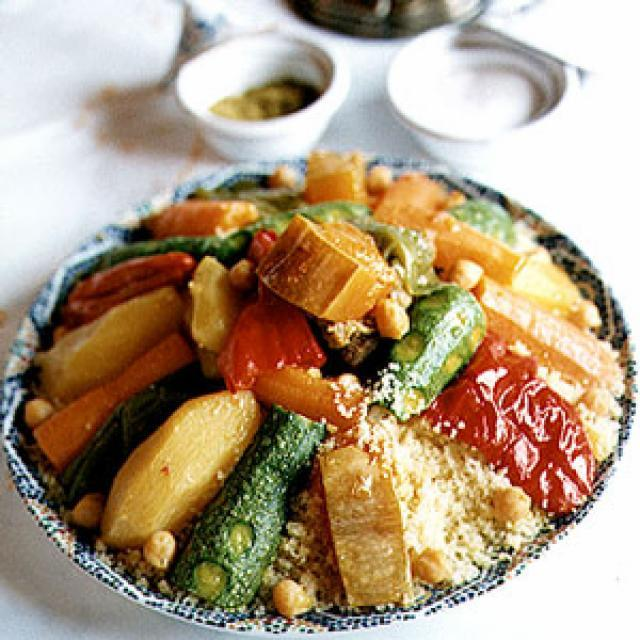Couscous: (18, 146, 628, 620)
